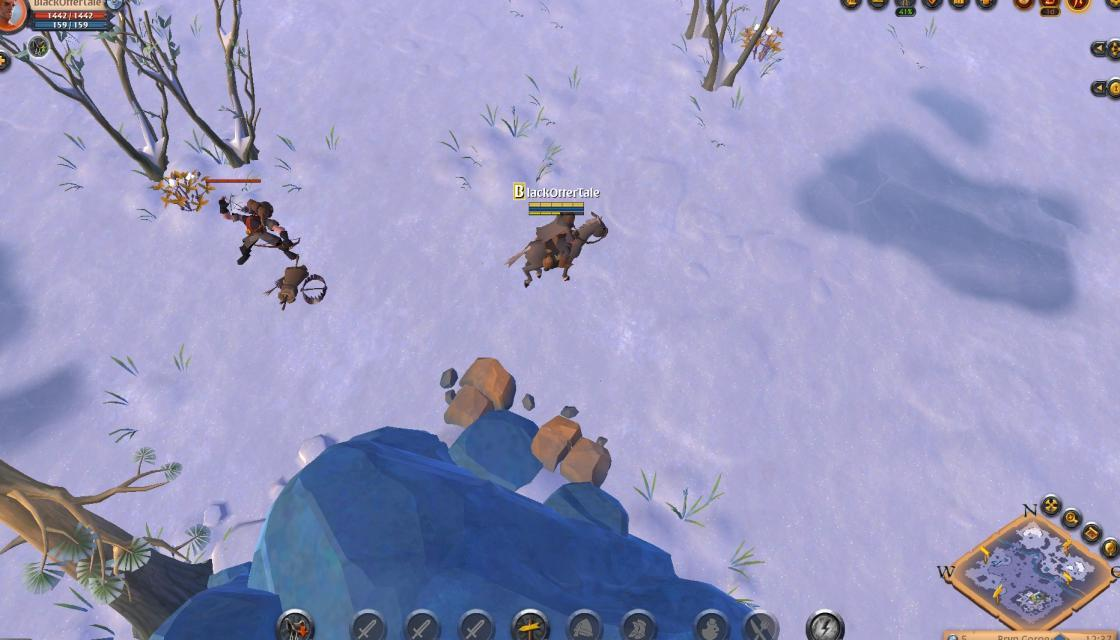limestone: (528, 408, 620, 494), (438, 353, 518, 433)
